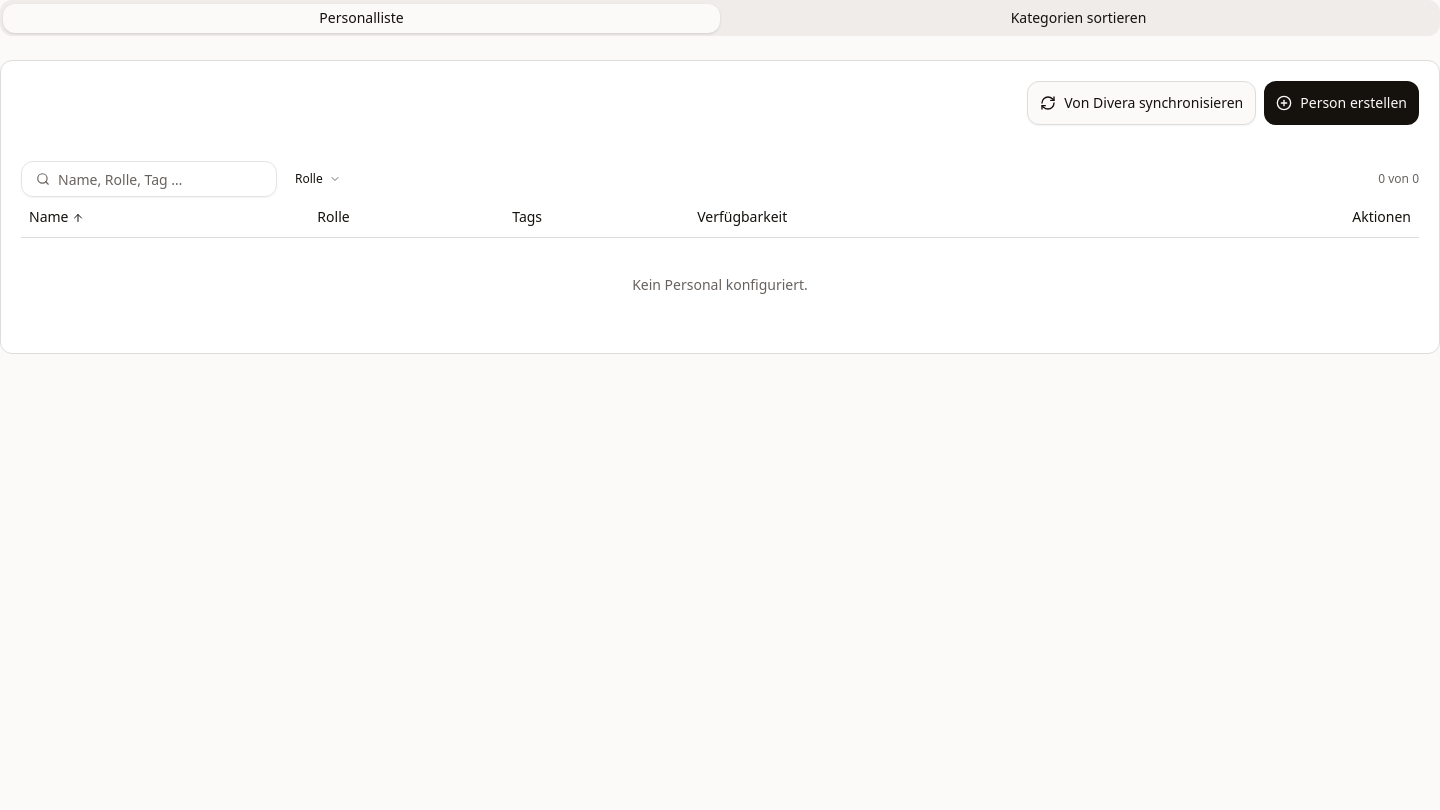
it: PersonnelSettings › warns about unsaved changes when cancelling while dirty
Click the button "Person erstellen" at (1342, 103), box [1264,81,1419,125]
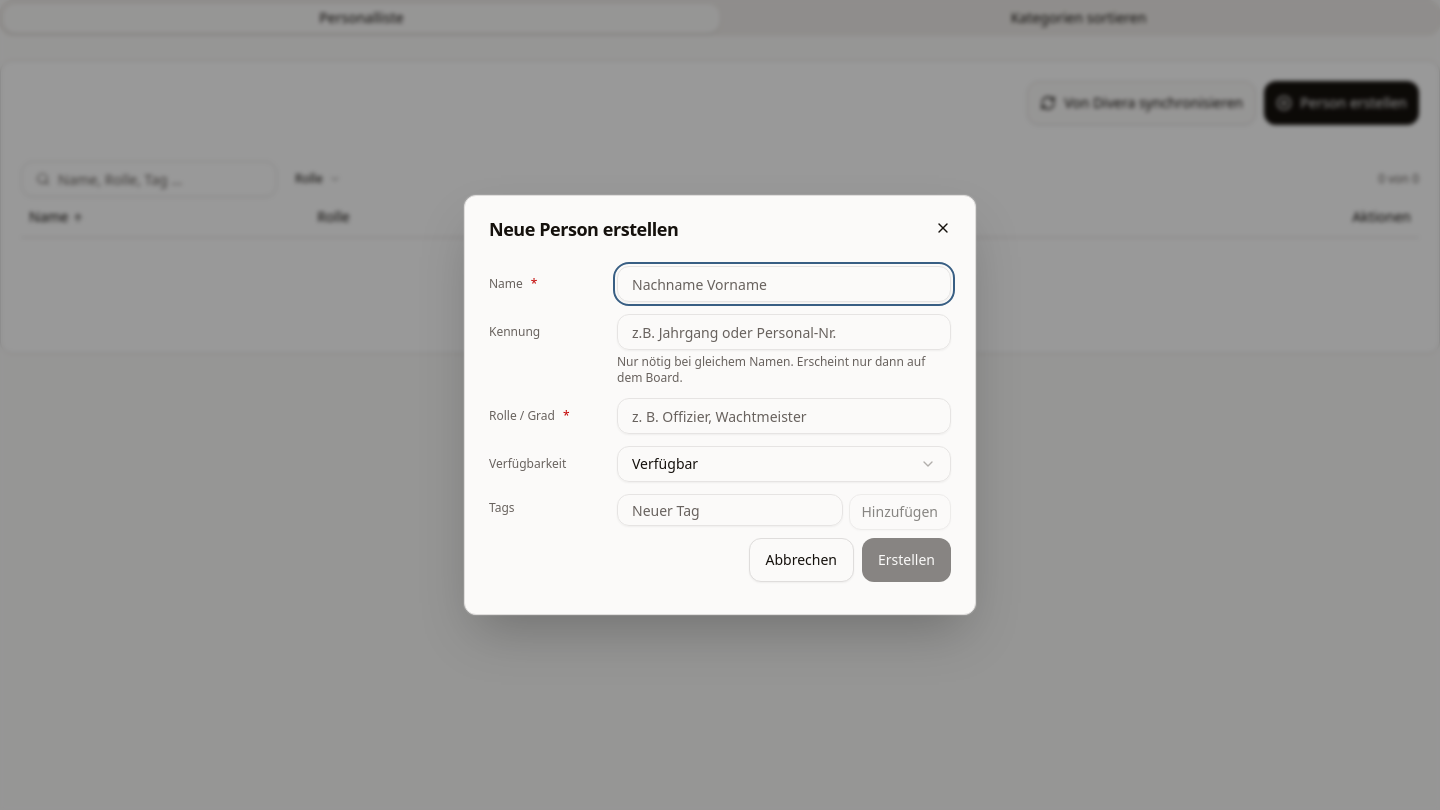
Type "Halffilled" into the field labelled "Name *" at (784, 284), box [617,266,951,302]
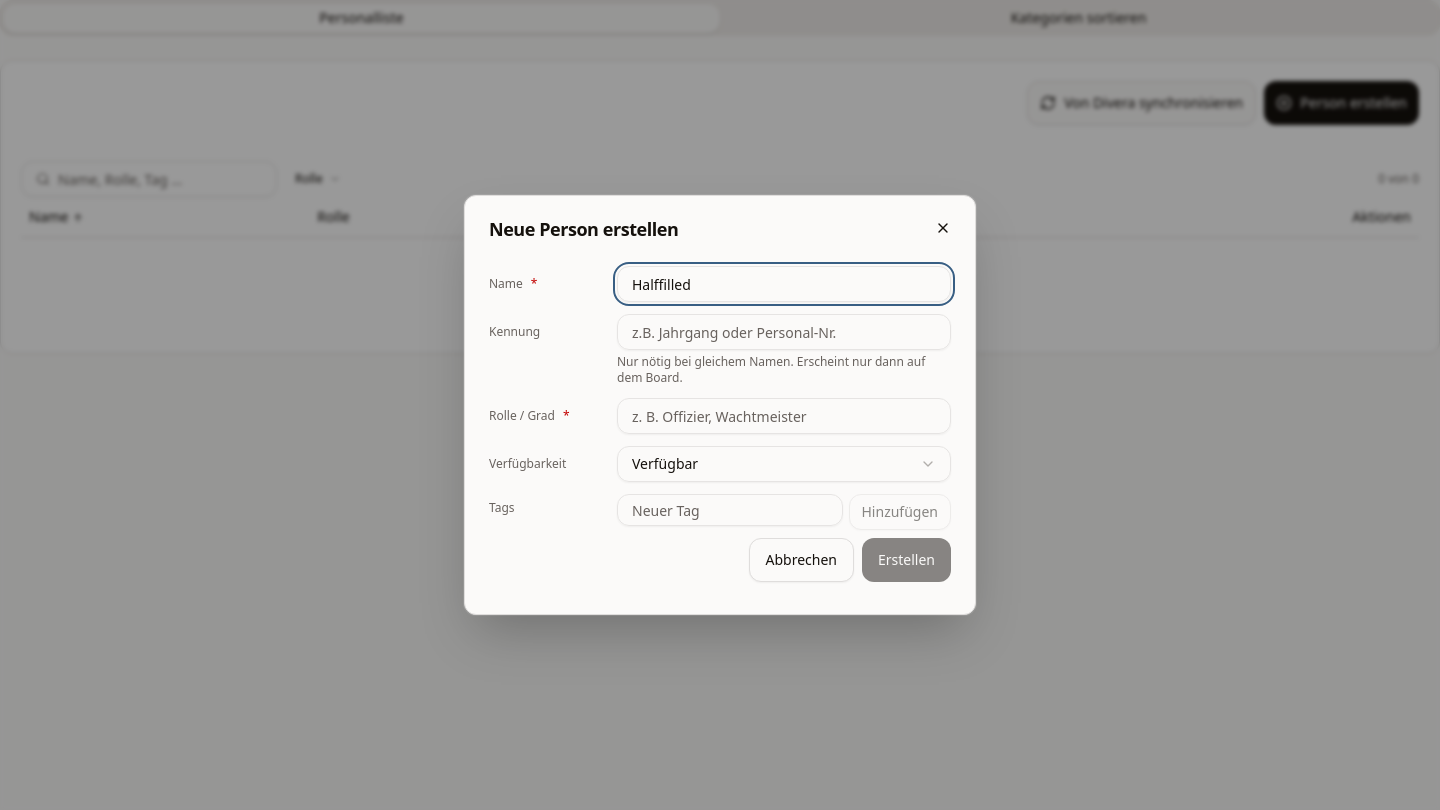
Click the button "Abbrechen" at (801, 560), box [748,538,854,582]
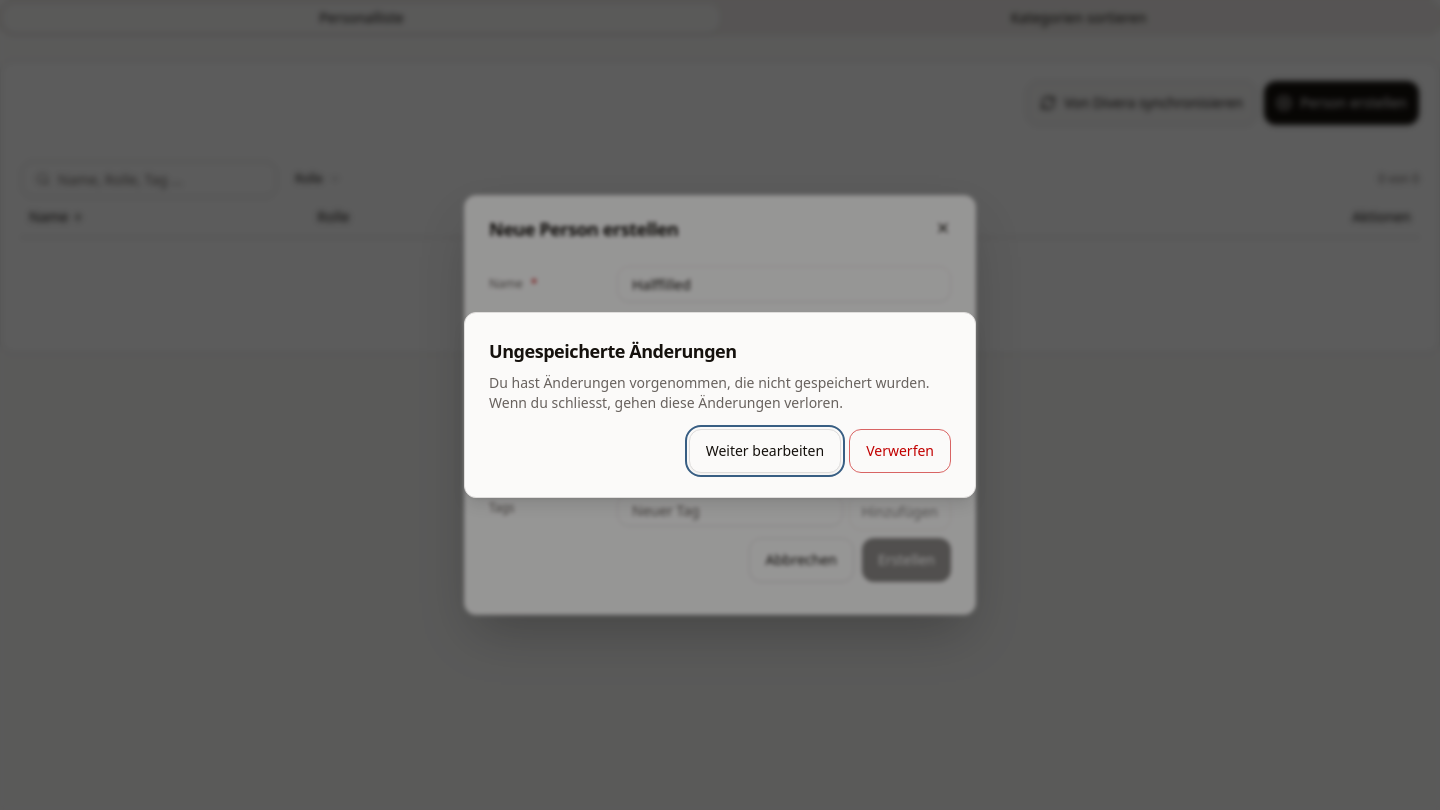
Result: the heading "Ungespeicherte Änderungen" is shown at [489,339,737,363]
